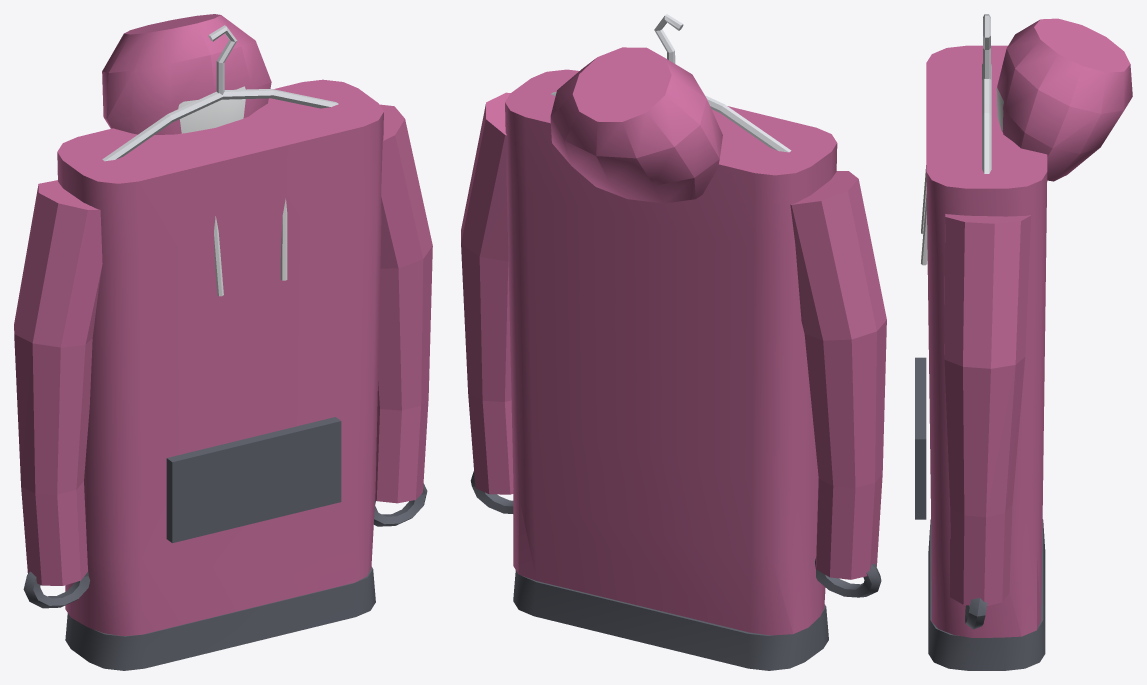
File: snowboard-gear-and-freestyle-riders-hoodie-on-hanger-a770c75b__27162.glb
3 views of the same model, side by side, from view 1: azimuth 30°, elevation 25°; view 2: azimuth 150°, elevation 25°; view 3: azimuth 270°, elevation 25° (orthographic). The views are drawn at different scales.
Visible parts, largest first — view 1: hoodie-on-hanger; view 2: hoodie-on-hanger; view 3: hoodie-on-hanger.
Part boxes in pixels (x1,y1,x2,y2): hoodie-on-hanger: (14, 14, 432, 670); hoodie-on-hanger: (461, 14, 886, 670); hoodie-on-hanger: (915, 14, 1132, 670).
Bounding box in the file's own units: 0.5811 × 0.8071 × 0.2701.
